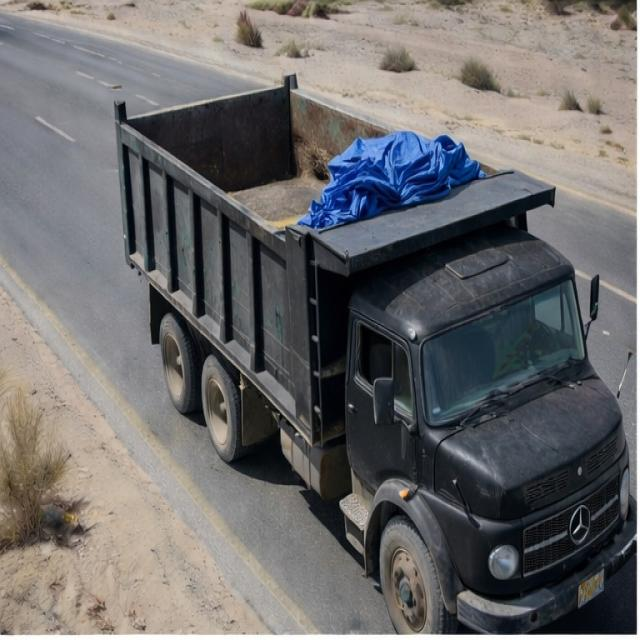Box: (122, 70, 560, 258)
Truck: (115, 44, 635, 634)
